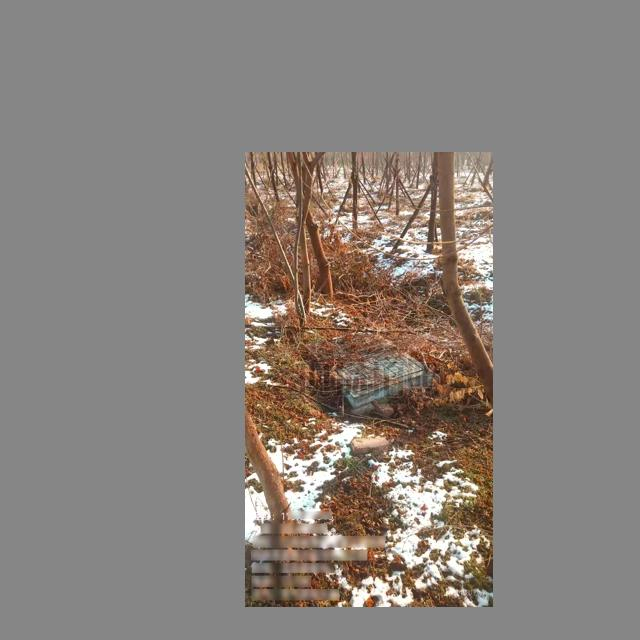circle: (305, 327, 434, 411)
